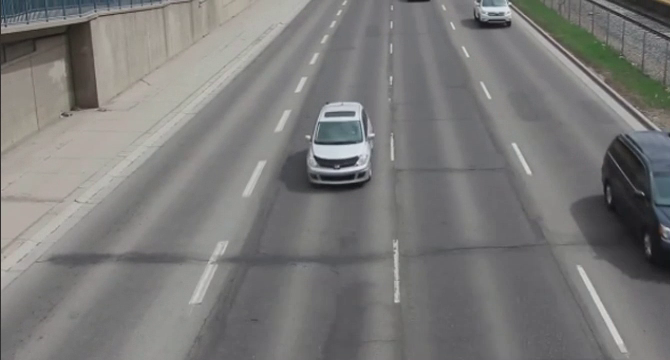car: (594, 120, 670, 271), (304, 100, 379, 188), (475, 1, 520, 25)
